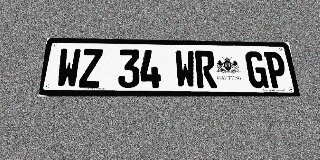3: (118, 49, 140, 88)
4: (140, 50, 161, 88)
G: (245, 51, 269, 88)
P: (264, 52, 289, 88)
R: (195, 50, 217, 88)
W: (55, 48, 81, 88), (174, 50, 196, 88)
Z: (79, 49, 103, 88)
